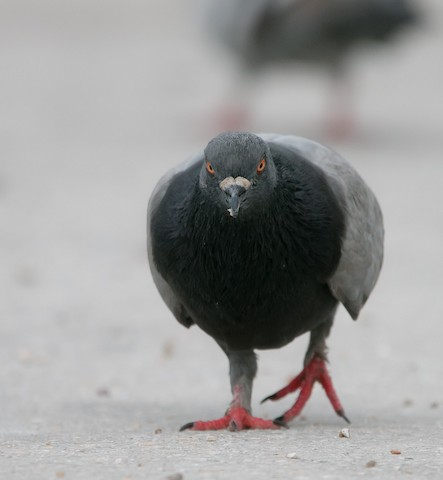pigeon: (144, 129, 389, 435)
